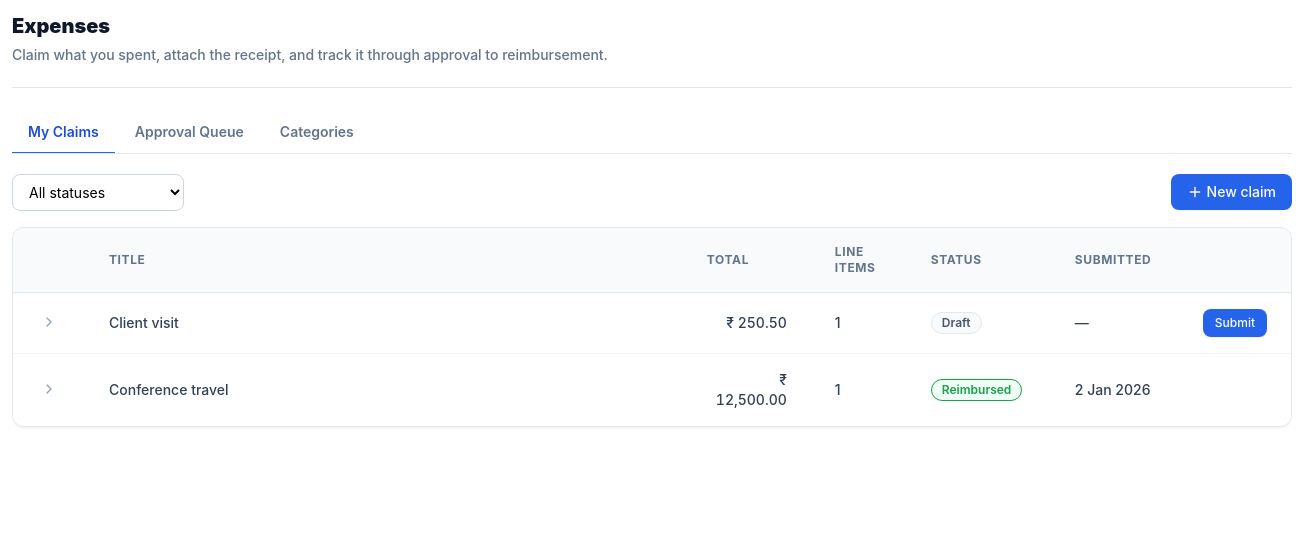
receipts › shows no upload control on a claim that is past draft
Expected: the text "Conference travel" is shown, [85, 353, 683, 426]
Click the button named "Show line items for Conference travel".
click(49, 389)  # box [37, 377, 61, 401]
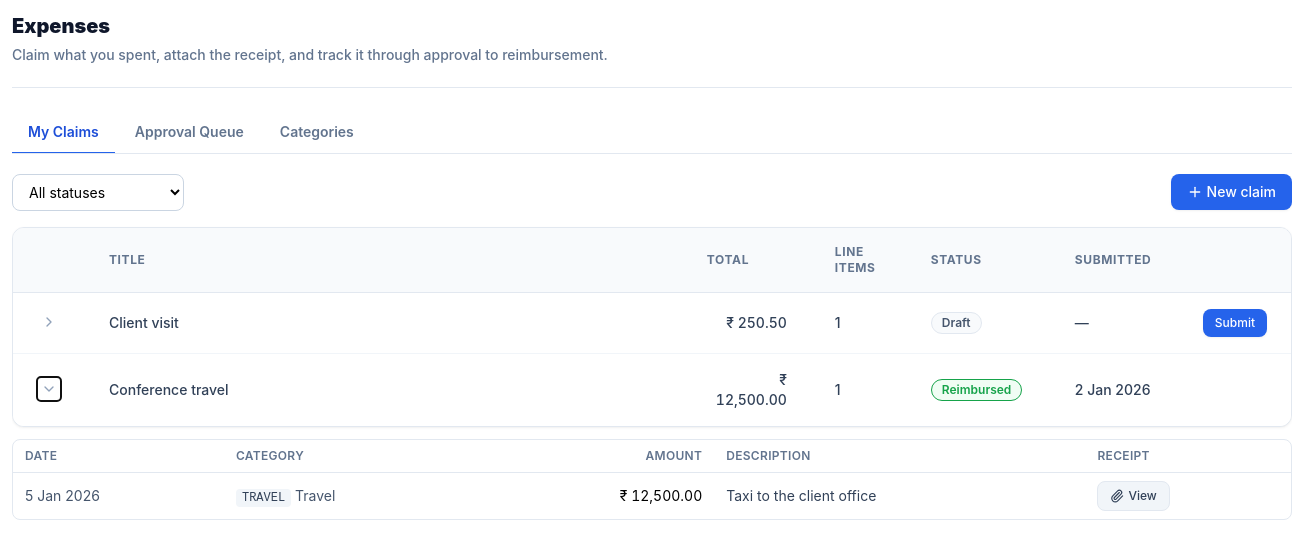
Expected: the button with aria-label "View receipt" is shown, [1098, 481, 1170, 511]
